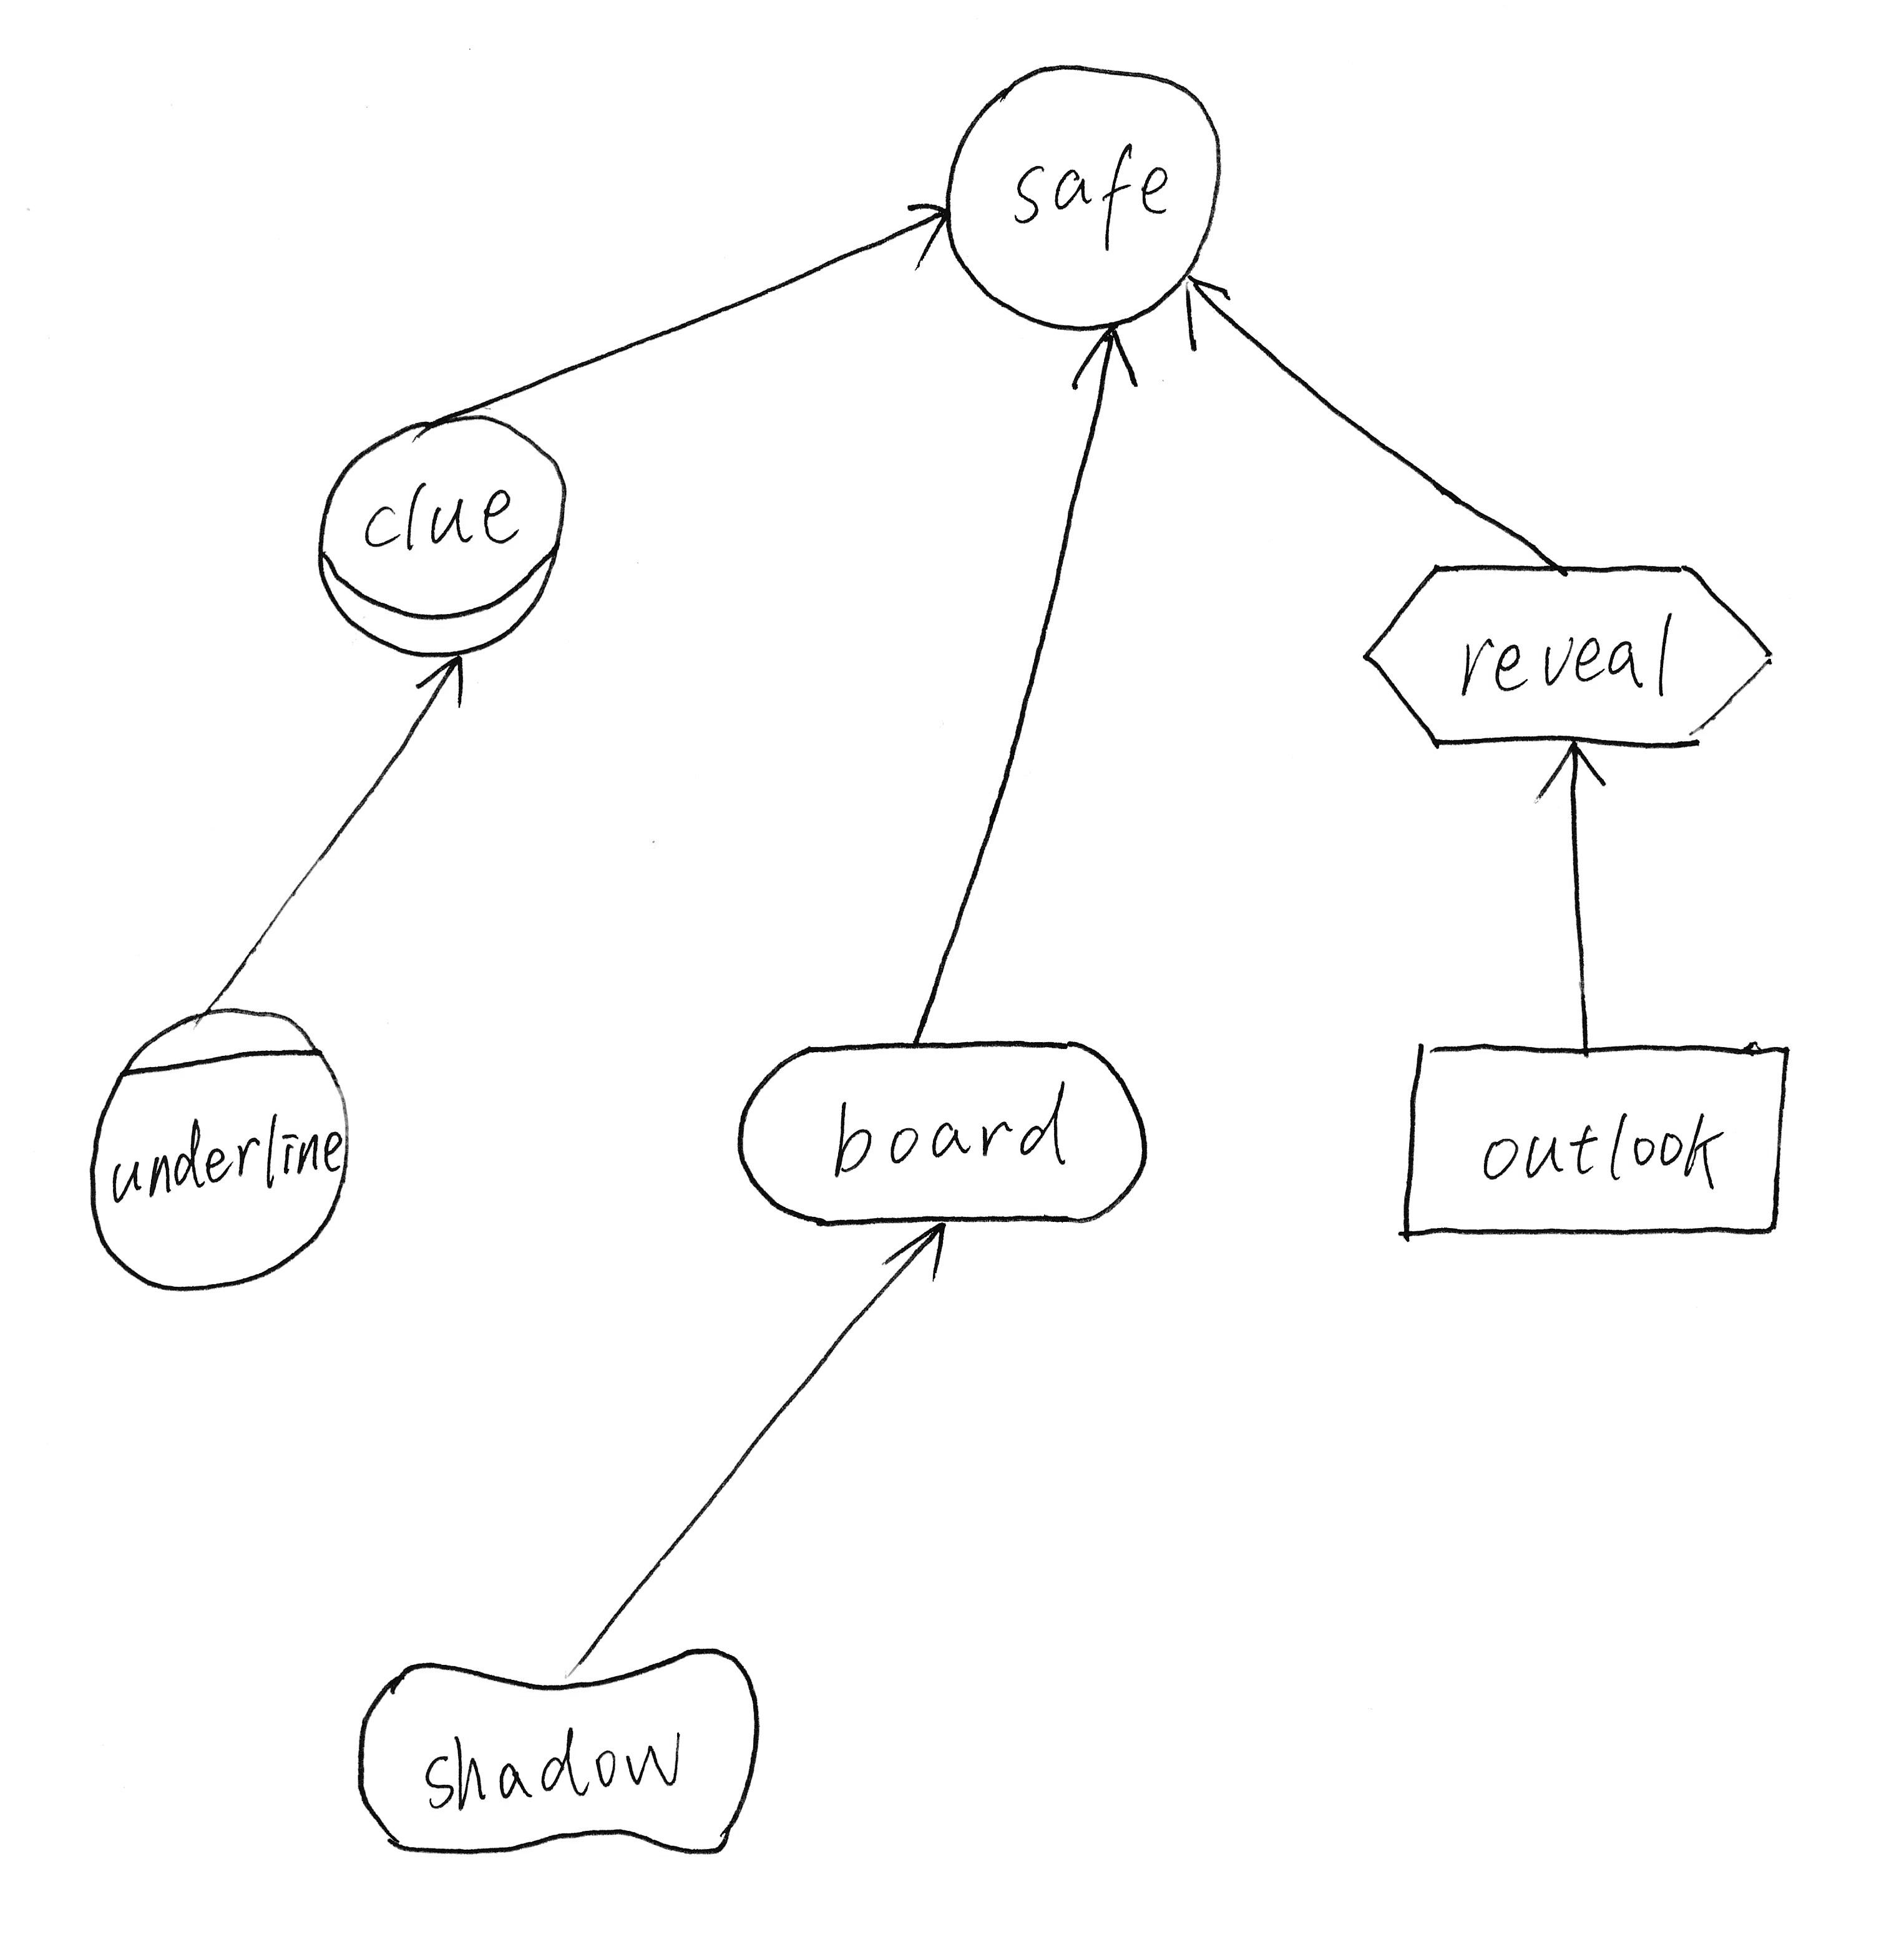actor: (922, 40, 1237, 349)
agent: (58, 989, 369, 1316)
arrow: (1507, 718, 1633, 818), (1167, 255, 1252, 370), (1053, 309, 1155, 405), (393, 634, 493, 720), (870, 1204, 966, 1291), (889, 171, 966, 280)
goal: (718, 1017, 1176, 1255)
quality: (335, 1632, 783, 1878)
resource: (1368, 1012, 1815, 1269)
role: (297, 395, 585, 680)
task: (1342, 543, 1803, 776)
